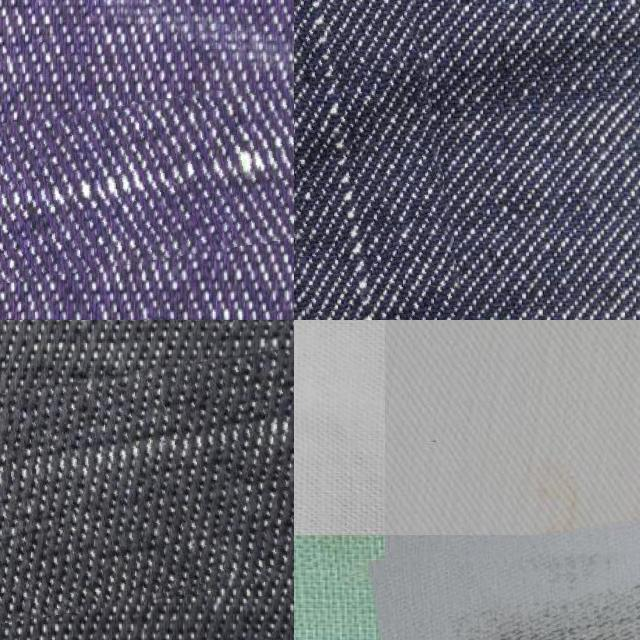Hole: (377, 523, 640, 640)
Thread_other: (0, 359, 294, 635), (0, 95, 294, 300), (294, 0, 478, 320)
